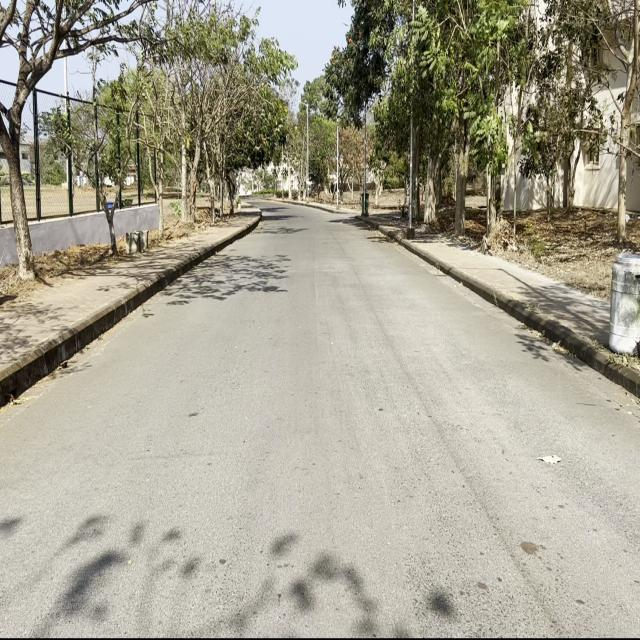Road: (3, 202, 636, 630)
